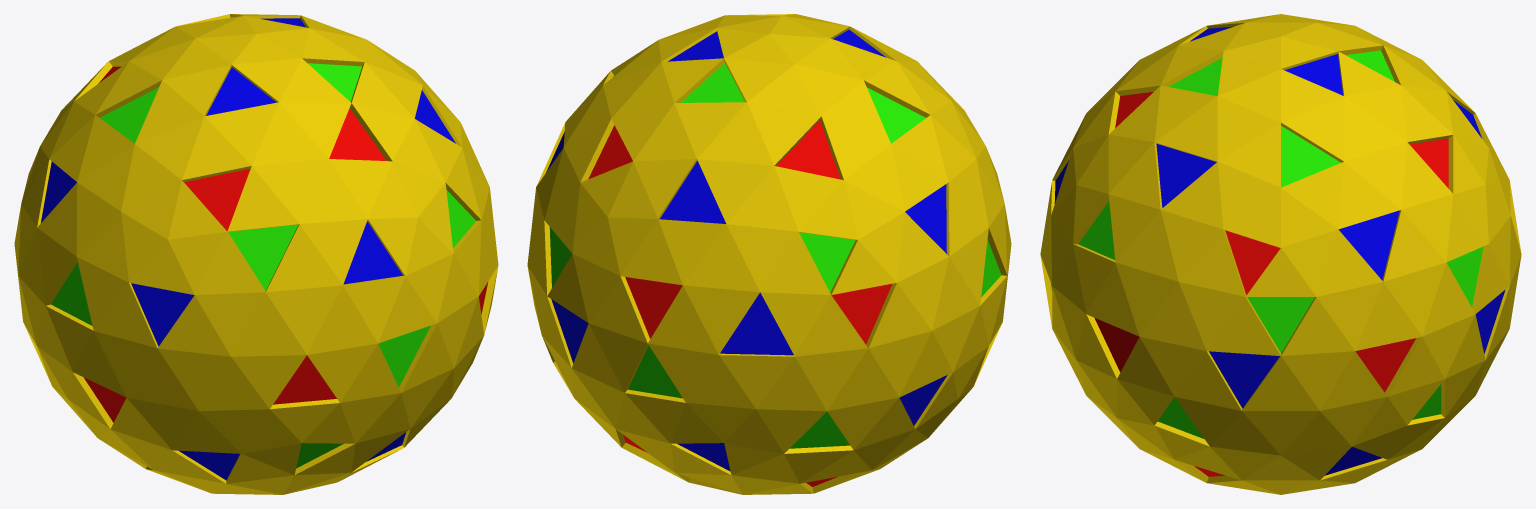
Rendered from Ball_Yellow.fbx.
3 views of the same model, side by side, from view 1: azimuth 30°, elevation 25°; view 2: azimuth 150°, elevation 25°; view 3: azimuth 270°, elevation 25° (orthographic).
Parts seen in each view (by area): view 1: Ball; view 2: Ball; view 3: Ball.
Part boxes in pixels (box(x1,y1,x2,y2)): Ball: box(14, 14, 498, 494); Ball: box(527, 14, 1011, 494); Ball: box(1040, 14, 1521, 494).
Size of the model in its own units: 326 by 326 by 326.
